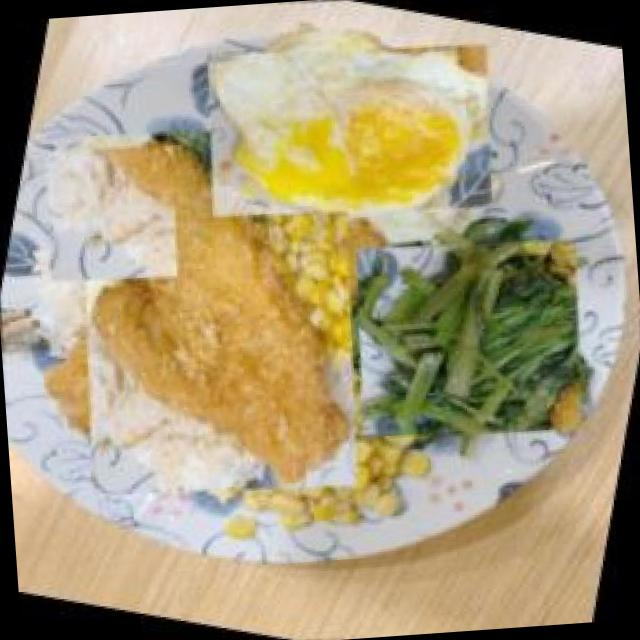fried_chicken: (0, 72, 456, 549)
fried_eggs: (165, 0, 533, 284)
rice: (13, 115, 210, 312)
water_spinach: (309, 187, 632, 492)
